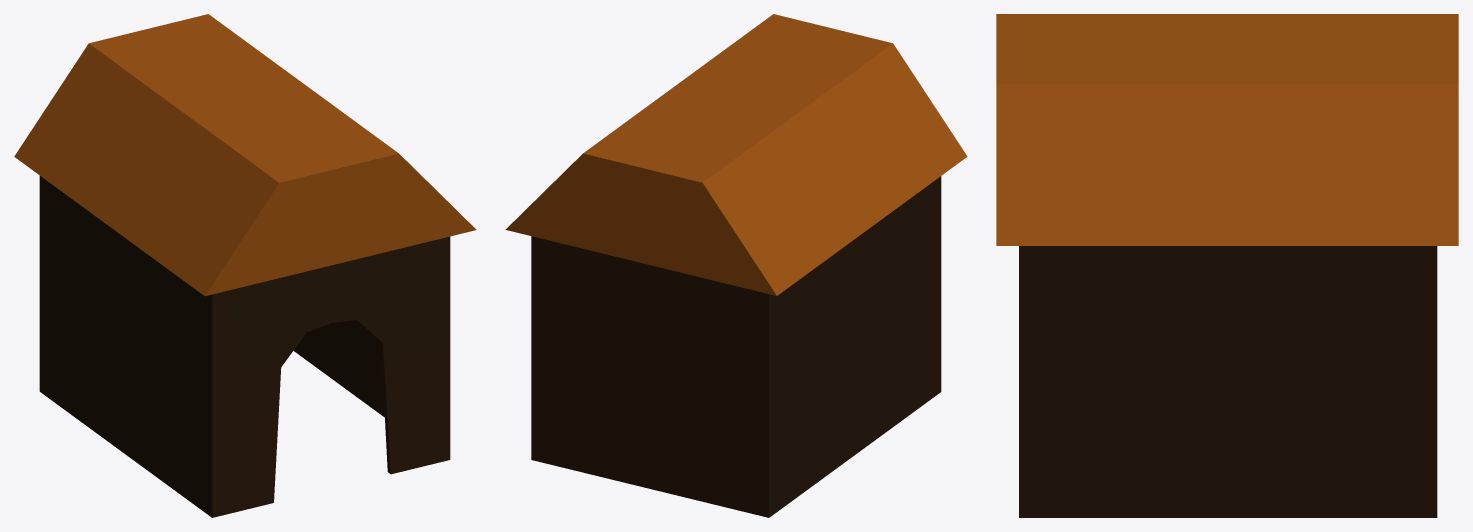
The model's file is Doghouse.FBX.
The picture shows the model from 3 angles, left to right: view 1: azimuth 30°, elevation 25°; view 2: azimuth 150°, elevation 25°; view 3: azimuth 270°, elevation 25°; orthographic projection. The views are drawn at different scales.
Visible parts, largest first — view 1: Dog House, Doghouse Roof; view 2: Dog House, Doghouse Roof; view 3: Dog House, Doghouse Roof.
Boxes of the visible parts, box(x1,y1,x2,y2) form: Dog House: box(39, 176, 450, 517); Doghouse Roof: box(14, 14, 476, 296); Dog House: box(531, 176, 941, 517); Doghouse Roof: box(505, 14, 967, 295); Dog House: box(1019, 246, 1437, 517); Doghouse Roof: box(996, 14, 1458, 245).
Bounding box in the file's own units: 164 × 189 × 199.
